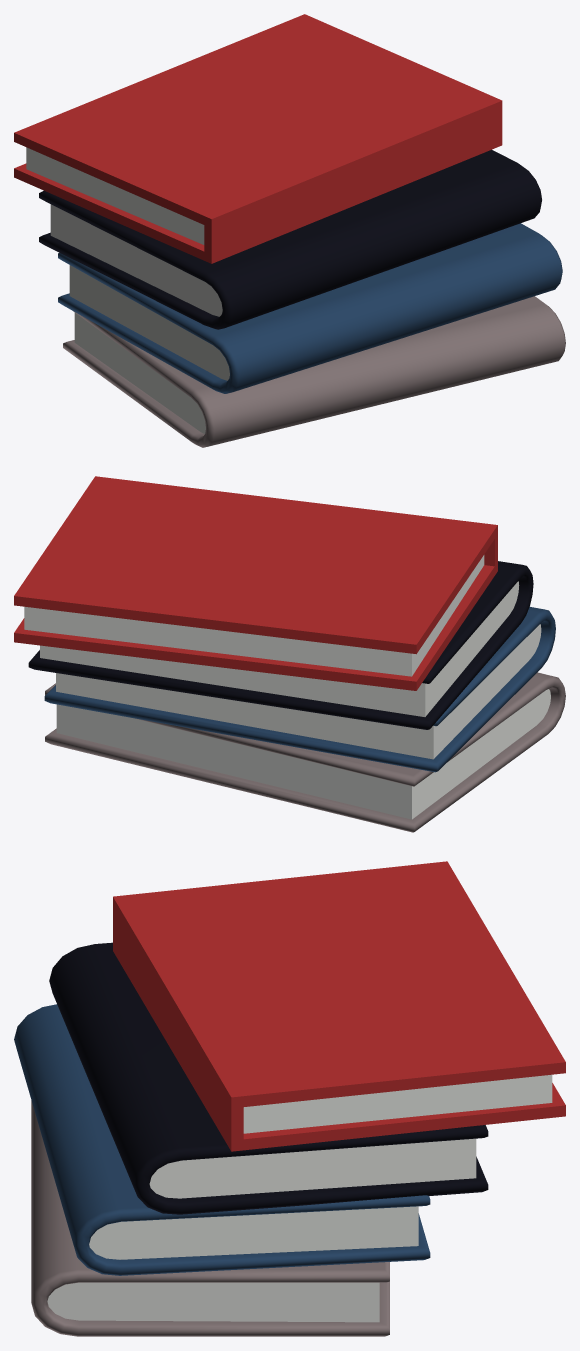
File: 4livros.fbx
The picture shows the model from 3 angles, top to bottom: view 1: azimuth 30°, elevation 25°; view 2: azimuth 150°, elevation 25°; view 3: azimuth 270°, elevation 25°; orthographic projection. The views are drawn at different scales.
Parts seen in each view (by area): view 1: Cylinder.017; view 2: Cylinder.017; view 3: Cylinder.017.
Boxes of the visible parts, x1=… form: Cylinder.017: x1=14, y1=14, x2=565, y2=447; Cylinder.017: x1=14, y1=476, x2=565, y2=832; Cylinder.017: x1=14, y1=861, x2=565, y2=1336.
Size of the model in its own units: 76.37 by 37.7 by 75.05.
